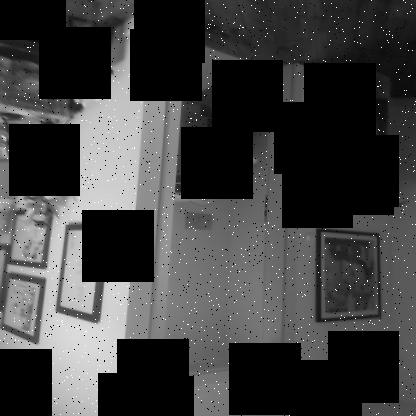Porte: (142, 17, 302, 394)
